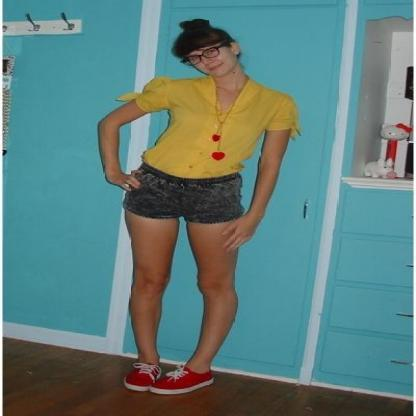shirt: (119, 78, 298, 178)
shoe: (125, 353, 211, 393)
shorts: (122, 158, 254, 223)
